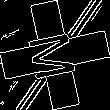M_E: (25, 27, 85, 83)
